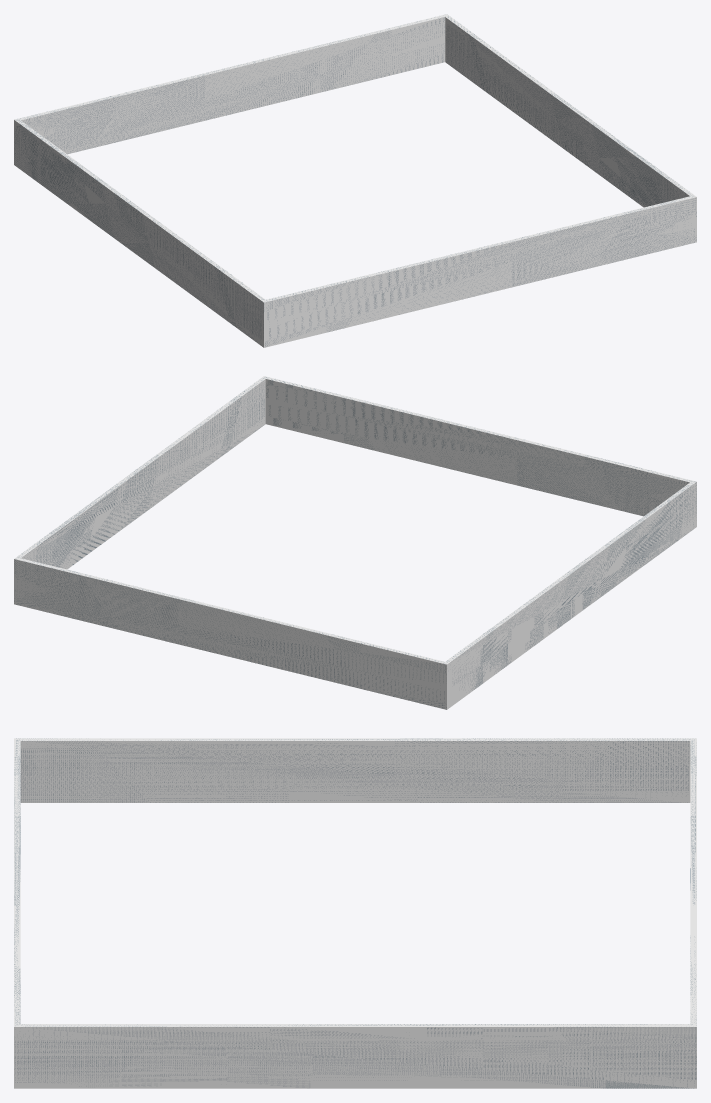
Rendered from square_room_left.dae.
The picture shows the model from 3 angles, top to bottom: view 1: azimuth 30°, elevation 25°; view 2: azimuth 150°, elevation 25°; view 3: azimuth 270°, elevation 25°; orthographic projection. The views are drawn at different scales.
Parts seen in each view (by area): view 1: skpD147 (×2); view 2: skpD147 (×2); view 3: skpD147 (×2).
Part boxes in pixels (x1=…): skpD147 (×2): x1=14, y1=14, x2=696, y2=347; skpD147 (×2): x1=14, y1=376, x2=696, y2=709; skpD147 (×2): x1=14, y1=738, x2=696, y2=1088.
Bounding box in the file's own units: 591 × 591 × 59.06.
